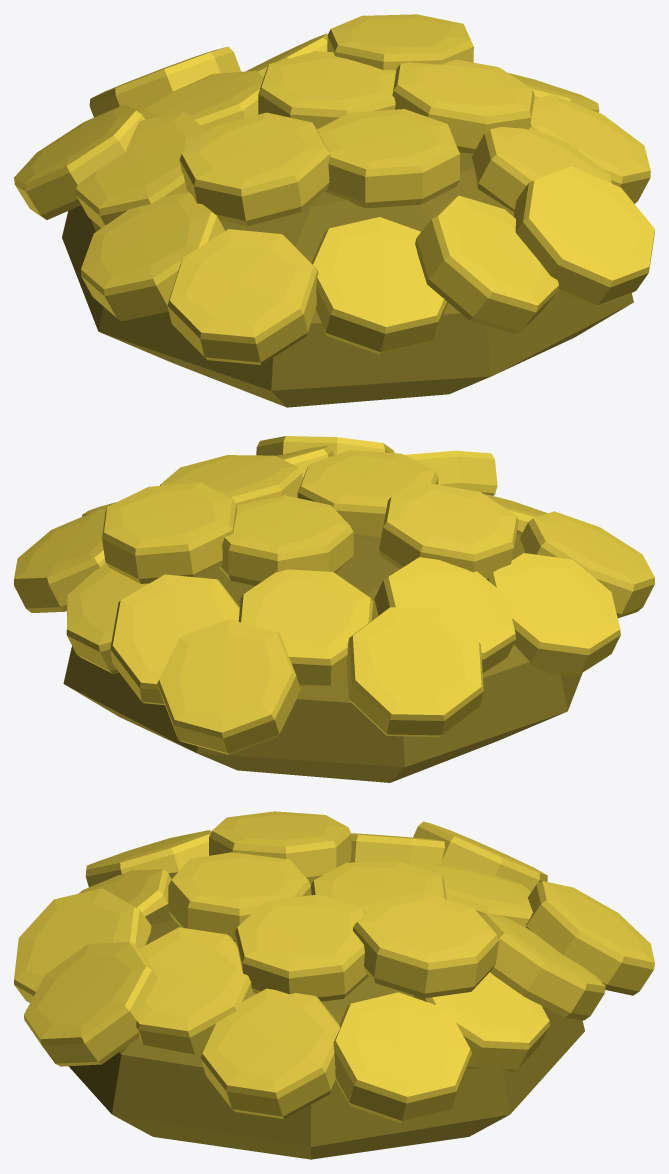
Rendered from Mesh_GoldPile.glb.
3 renders of one model, top to bottom at view 1: azimuth 30°, elevation 25°; view 2: azimuth 150°, elevation 25°; view 3: azimuth 270°, elevation 25°, orthographic. The views are drawn at different scales.
Parts seen in each view (by area): view 1: Cube.015; view 2: Cube.015; view 3: Cube.015.
Boxes of the visible parts, x1,y1,x2,y2 form: Cube.015: [14, 14, 654, 407]; Cube.015: [14, 436, 654, 782]; Cube.015: [14, 811, 654, 1159].
Bounding box in the file's own units: 4.69 × 1.93 × 4.9.
